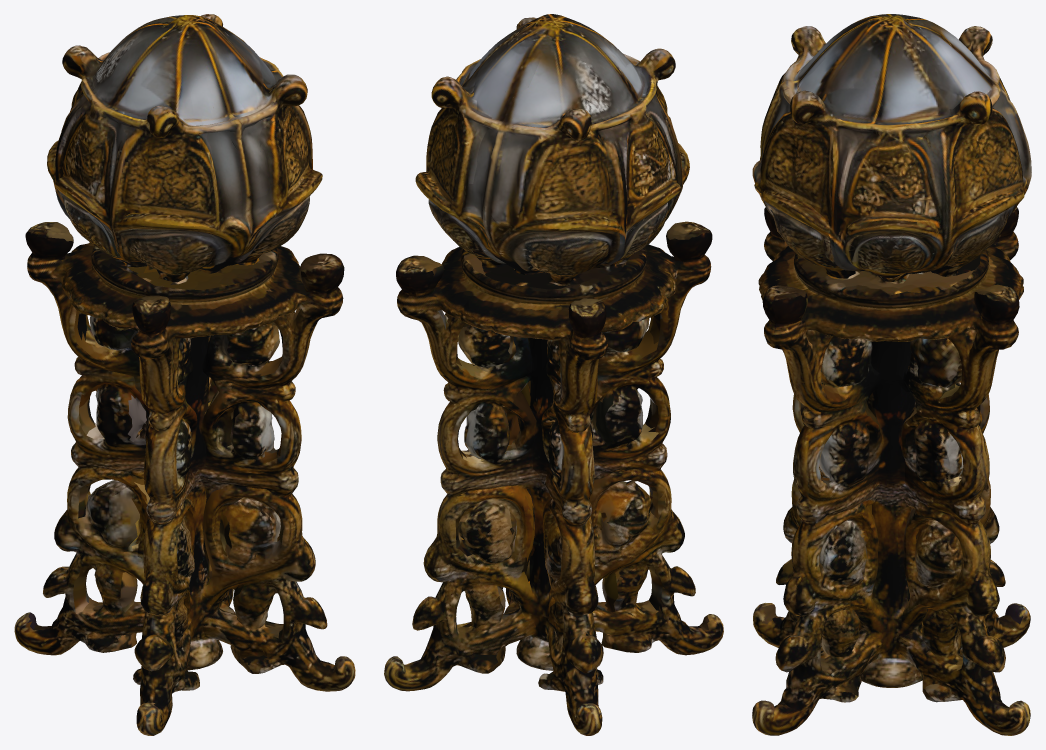
The picture shows the model from 3 angles, left to right: view 1: azimuth 30°, elevation 25°; view 2: azimuth 150°, elevation 25°; view 3: azimuth 270°, elevation 25°; orthographic projection. The views are drawn at different scales.
Parts seen in each view (by area): view 1: textured_mesh; view 2: textured_mesh; view 3: textured_mesh.
Boxes of the visible parts, x1=… form: textured_mesh: x1=14, y1=14, x2=355, y2=735; textured_mesh: x1=384, y1=14, x2=723, y2=735; textured_mesh: x1=752, y1=14, x2=1031, y2=735.
Size of the model in its own units: 0.7413 by 1.99 by 0.7501.
Materials: 1 (1 with a texture image).
